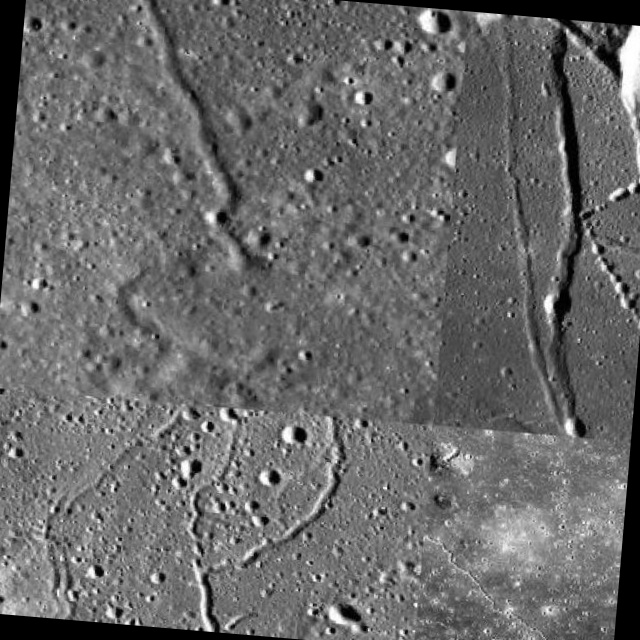crater: (37, 416, 440, 638), (466, 6, 588, 414), (93, 0, 264, 282), (152, 416, 360, 638), (442, 416, 638, 638), (511, 0, 600, 406), (441, 0, 638, 178), (204, 423, 253, 569)
